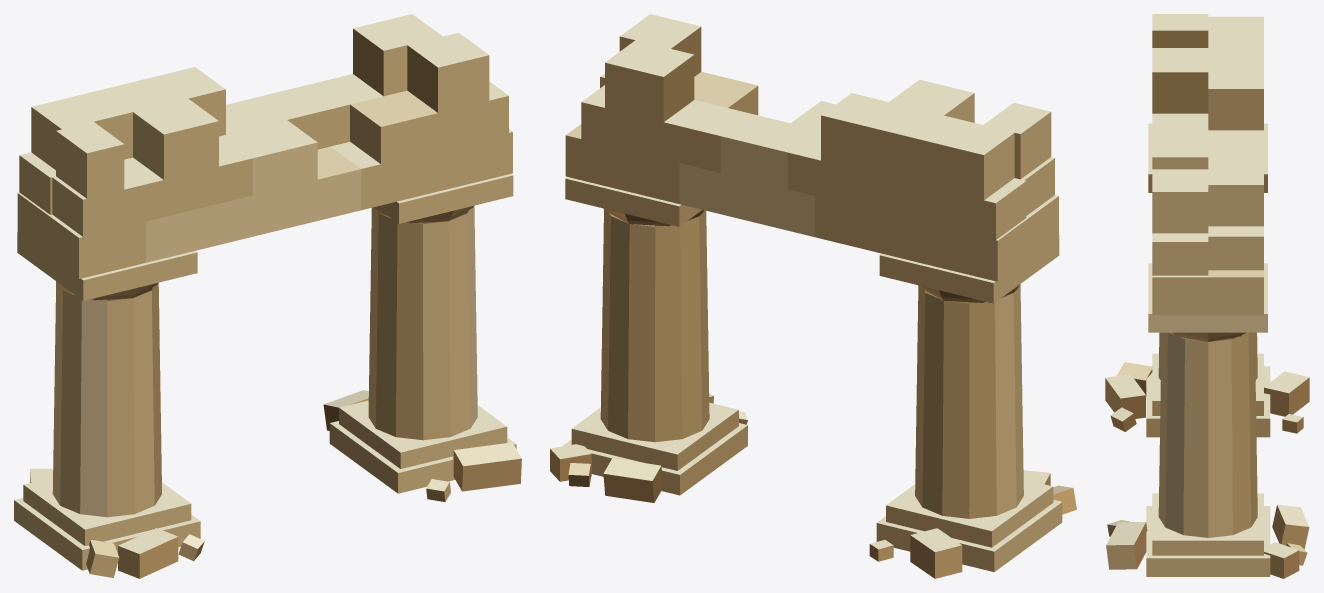
File: landmark-far.glb
The picture shows the model from 3 angles, left to right: view 1: azimuth 30°, elevation 25°; view 2: azimuth 150°, elevation 25°; view 3: azimuth 270°, elevation 25°; orthographic projection. The views are drawn at different scales.
Parts seen in each view (by area): view 1: gateway-far; view 2: gateway-far; view 3: gateway-far.
Boxes of the visible parts, x1,y1,x2,y2 form: gateway-far: (14, 14, 521, 578); gateway-far: (550, 14, 1076, 578); gateway-far: (1105, 14, 1309, 578).
Bounding box in the file's own units: 44.84 × 40 × 19.82.
1 material, 1 textured.
